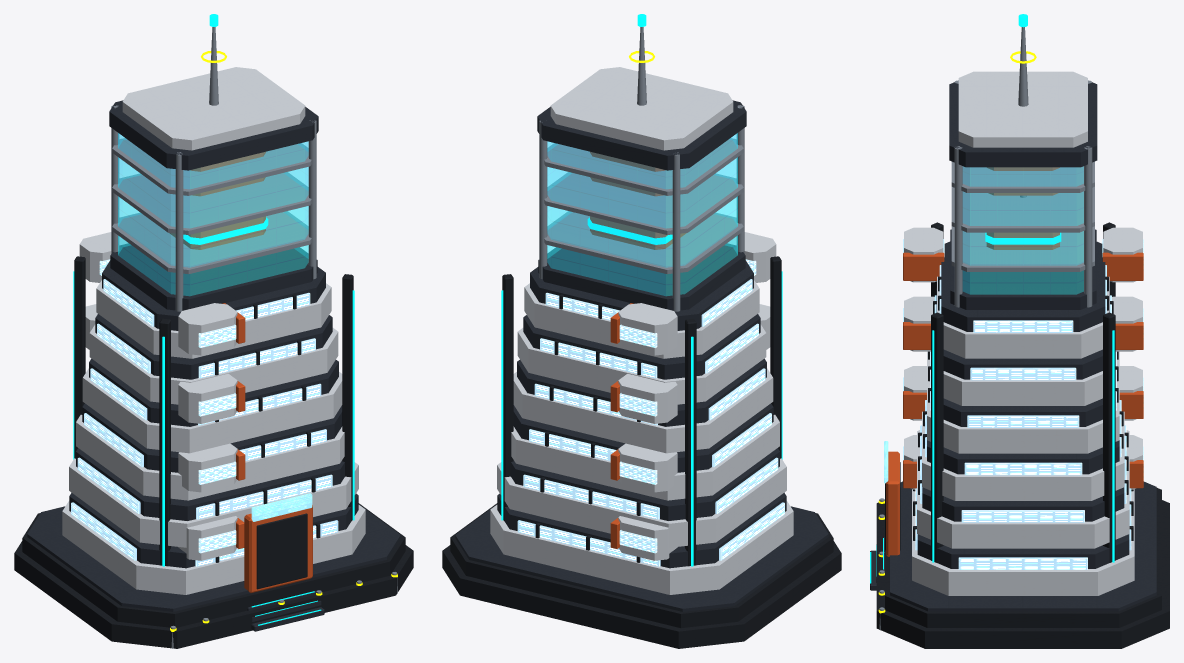
Rendered from bldg_01_r1_01.glb.
3 views of the same model, side by side, from view 1: azimuth 30°, elevation 25°; view 2: azimuth 150°, elevation 25°; view 3: azimuth 270°, elevation 25° (orthographic).
Visible parts, largest first — view 1: Bldg01_C01_aero_white, Bldg01_C01_carbon_slate, Bldg01_C01_gunmetal, Bldg01_C01_steel_machined, Bldg01_C01_glass_cyan, Bldg01_C01_window_lit, Bldg01_C01_accent_orange, Bldg01_C01_led_cyan, Bldg01_C01_marquee; view 2: Bldg01_C01_aero_white, Bldg01_C01_carbon_slate, Bldg01_C01_gunmetal, Bldg01_C01_steel_machined, Bldg01_C01_glass_cyan, Bldg01_C01_window_lit, Bldg01_C01_accent_orange, Bldg01_C01_led_cyan; view 3: Bldg01_C01_aero_white, Bldg01_C01_carbon_slate, Bldg01_C01_gunmetal, Bldg01_C01_steel_machined, Bldg01_C01_glass_cyan, Bldg01_C01_window_lit, Bldg01_C01_accent_orange, Bldg01_C01_led_cyan.
Part boxes in pixels (left/top/right/bottom): Bldg01_C01_aero_white: left=62, top=67, right=365, bottom=594; Bldg01_C01_carbon_slate: left=27, top=100, right=400, bottom=631; Bldg01_C01_gunmetal: left=14, top=256, right=413, bottom=648; Bldg01_C01_steel_machined: left=111, top=27, right=397, bottom=648; Bldg01_C01_glass_cyan: left=118, top=133, right=308, bottom=295; Bldg01_C01_window_lit: left=71, top=259, right=338, bottom=566; Bldg01_C01_accent_orange: left=169, top=152, right=312, bottom=592; Bldg01_C01_led_cyan: left=73, top=14, right=354, bottom=625; Bldg01_C01_marquee: left=251, top=493, right=312, bottom=521; Bldg01_C01_aero_white: left=490, top=67, right=793, bottom=594; Bldg01_C01_carbon_slate: left=455, top=100, right=828, bottom=611; Bldg01_C01_gunmetal: left=442, top=256, right=841, bottom=648; Bldg01_C01_steel_machined: left=539, top=27, right=744, bottom=311; Bldg01_C01_glass_cyan: left=547, top=133, right=737, bottom=295; Bldg01_C01_window_lit: left=517, top=259, right=784, bottom=566; Bldg01_C01_accent_orange: left=590, top=152, right=686, bottom=548; Bldg01_C01_led_cyan: left=501, top=14, right=782, bottom=566; Bldg01_C01_aero_white: left=904, top=71, right=1142, bottom=595; Bldg01_C01_carbon_slate: left=870, top=82, right=1156, bottom=611; Bldg01_C01_gunmetal: left=876, top=222, right=1169, bottom=648; Bldg01_C01_steel_machined: left=879, top=27, right=1094, bottom=630; Bldg01_C01_glass_cyan: left=963, top=166, right=1083, bottom=294; Bldg01_C01_window_lit: left=903, top=239, right=1143, bottom=569; Bldg01_C01_accent_orange: left=886, top=167, right=1143, bottom=556; Bldg01_C01_led_cyan: left=870, top=14, right=1114, bottom=583.
Bounding box in the file's own units: 12 × 21.02 × 10.23.
Materials: 10 (10 with a texture image).
